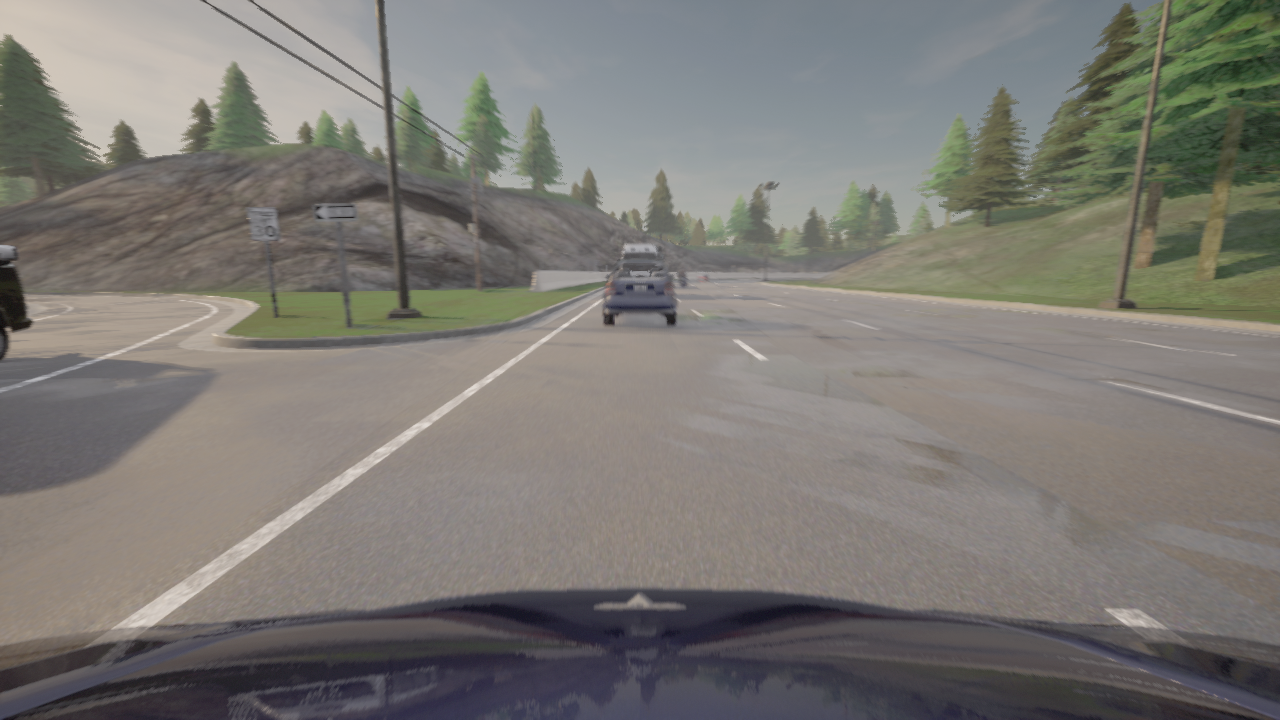cyclist: (0, 588, 1279, 719), (603, 259, 676, 324), (621, 244, 658, 258), (678, 273, 687, 288), (697, 272, 708, 282), (657, 247, 663, 261)
